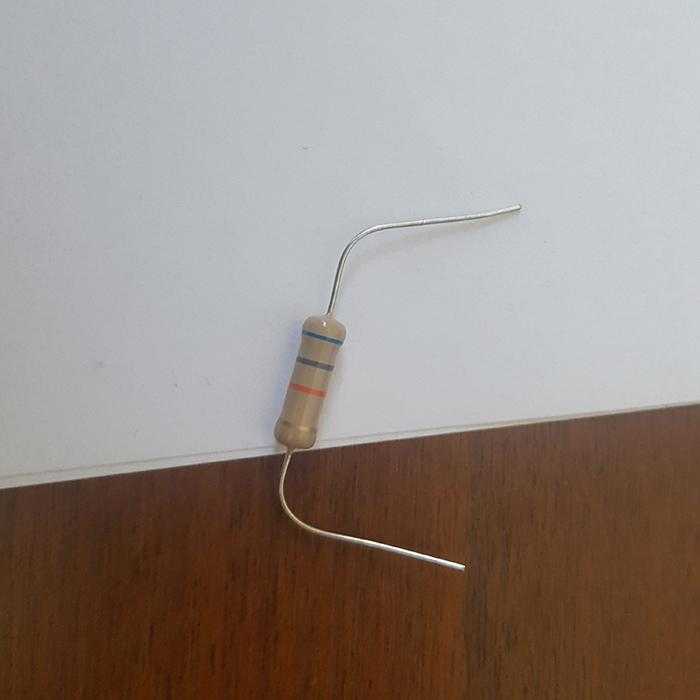resistor: (273, 313, 346, 450)
